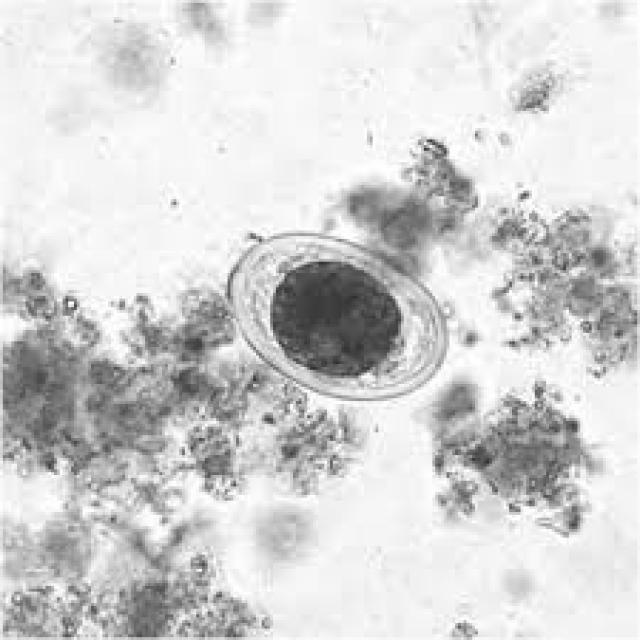Ascaris Lumbricoides: (216, 226, 461, 405)
